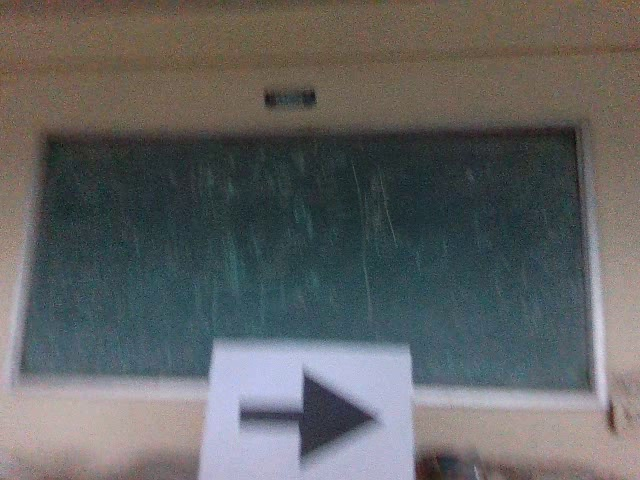Right: (227, 358, 387, 466)
